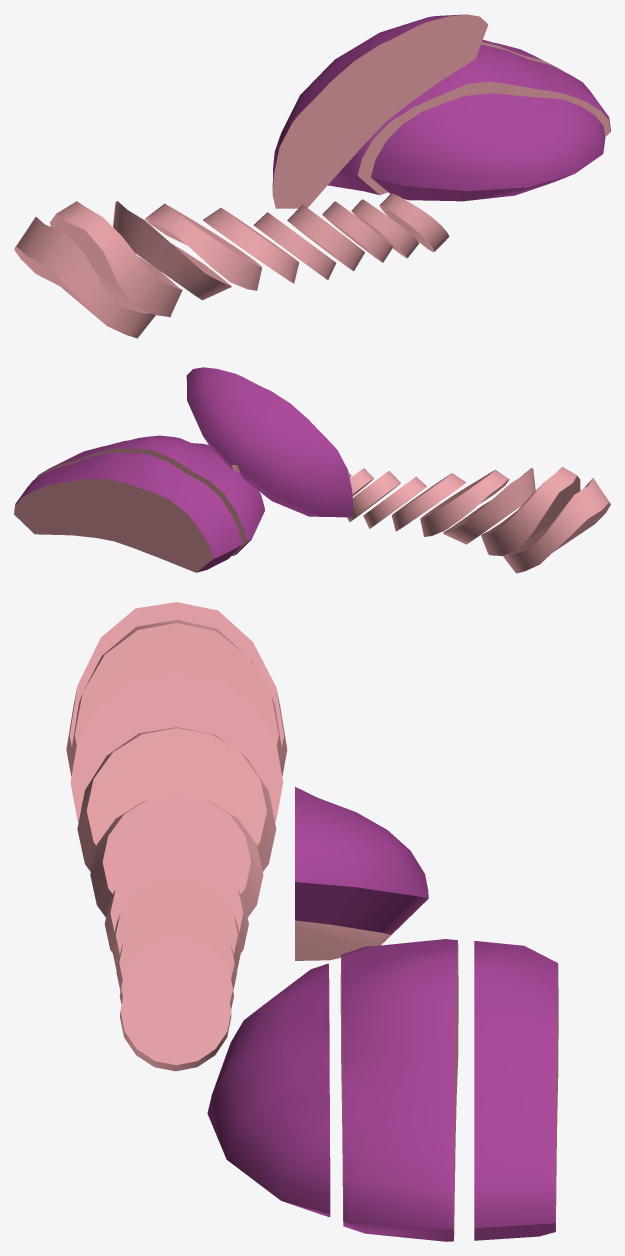
The model's file is Cogumelos_Recortado.fbx.
The picture shows the model from 3 angles, top to bottom: view 1: azimuth 30°, elevation 25°; view 2: azimuth 150°, elevation 25°; view 3: azimuth 270°, elevation 25°; orthographic projection. The views are drawn at different scales.
Parts seen in each view (by area): view 1: Sphere.015; view 2: Sphere.015; view 3: Sphere.015.
Boxes of the visible parts, x1,y1,x2,y2 form: Sphere.015: [14, 14, 610, 338]; Sphere.015: [14, 367, 610, 573]; Sphere.015: [66, 602, 558, 1241].
Bounding box in the file's own units: 79.26 × 22.86 × 33.57.
